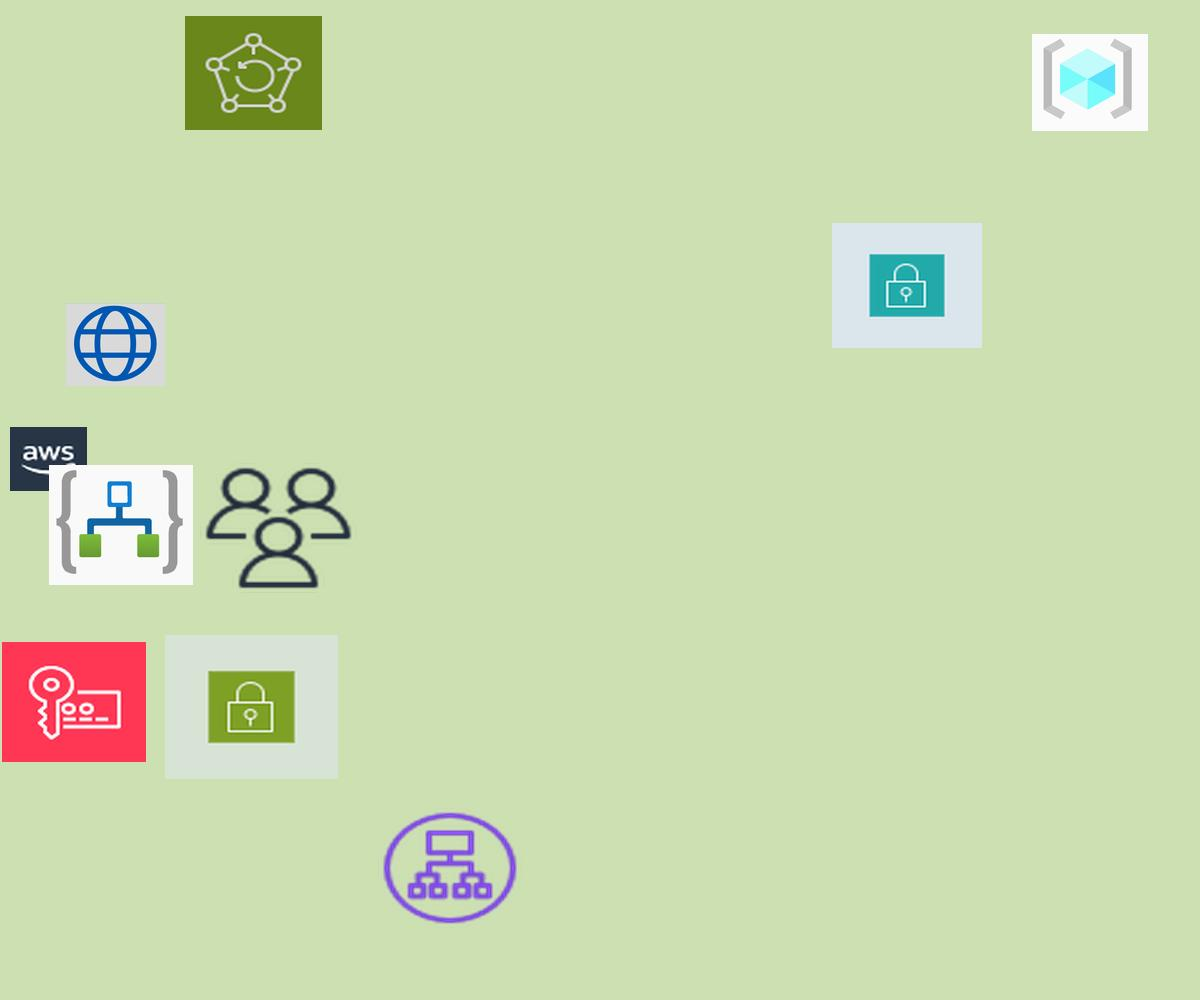AWS-Backup: (185, 16, 322, 130)
AWS-Cloud-logo: (10, 427, 87, 491)
AWS-Key-Management-Service: (2, 642, 146, 762)
AWS-Private-subnet: (832, 223, 982, 348)
AWS-Public-subnet: (165, 635, 338, 779)
AWS-Res_Elastic-Load-Balancing_Application-Load-Balancer: (378, 808, 522, 928)
AWS-Res_Users: (200, 463, 357, 593)
Azure_http: (66, 303, 165, 386)
Azure_integration-204-Logic-Apps: (49, 465, 193, 585)
Azure_resource_group: (1032, 34, 1148, 131)
